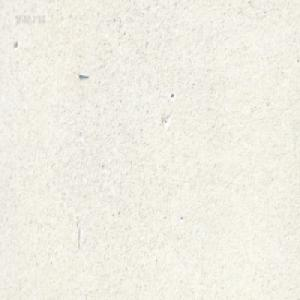Nail: (77, 71, 89, 78)
